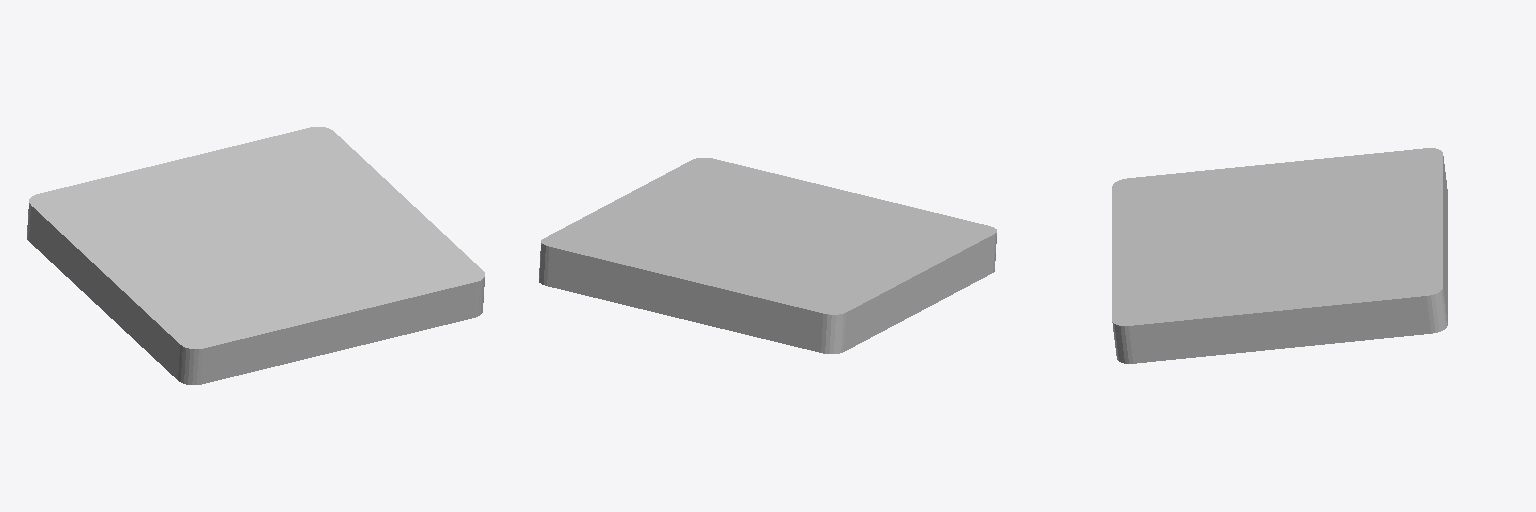
File: original-67.obj
3 views of the same model, side by side, from view 1: azimuth 30°, elevation 25°; view 2: azimuth 150°, elevation 25°; view 3: azimuth 270°, elevation 25° (orthographic).
Visible parts, largest first — view 1: mesh66/mesh66-geometry#mesh66-geometry; view 2: mesh66/mesh66-geometry#mesh66-geometry; view 3: mesh66/mesh66-geometry#mesh66-geometry.
Boxes of the visible parts, box(x1,y1,x2,y2) form: mesh66/mesh66-geometry#mesh66-geometry: box(27, 127, 484, 384); mesh66/mesh66-geometry#mesh66-geometry: box(539, 158, 996, 353); mesh66/mesh66-geometry#mesh66-geometry: box(1112, 148, 1447, 363).
Size of the model in its own units: 0.1061 by 0.0238 by 0.1019.